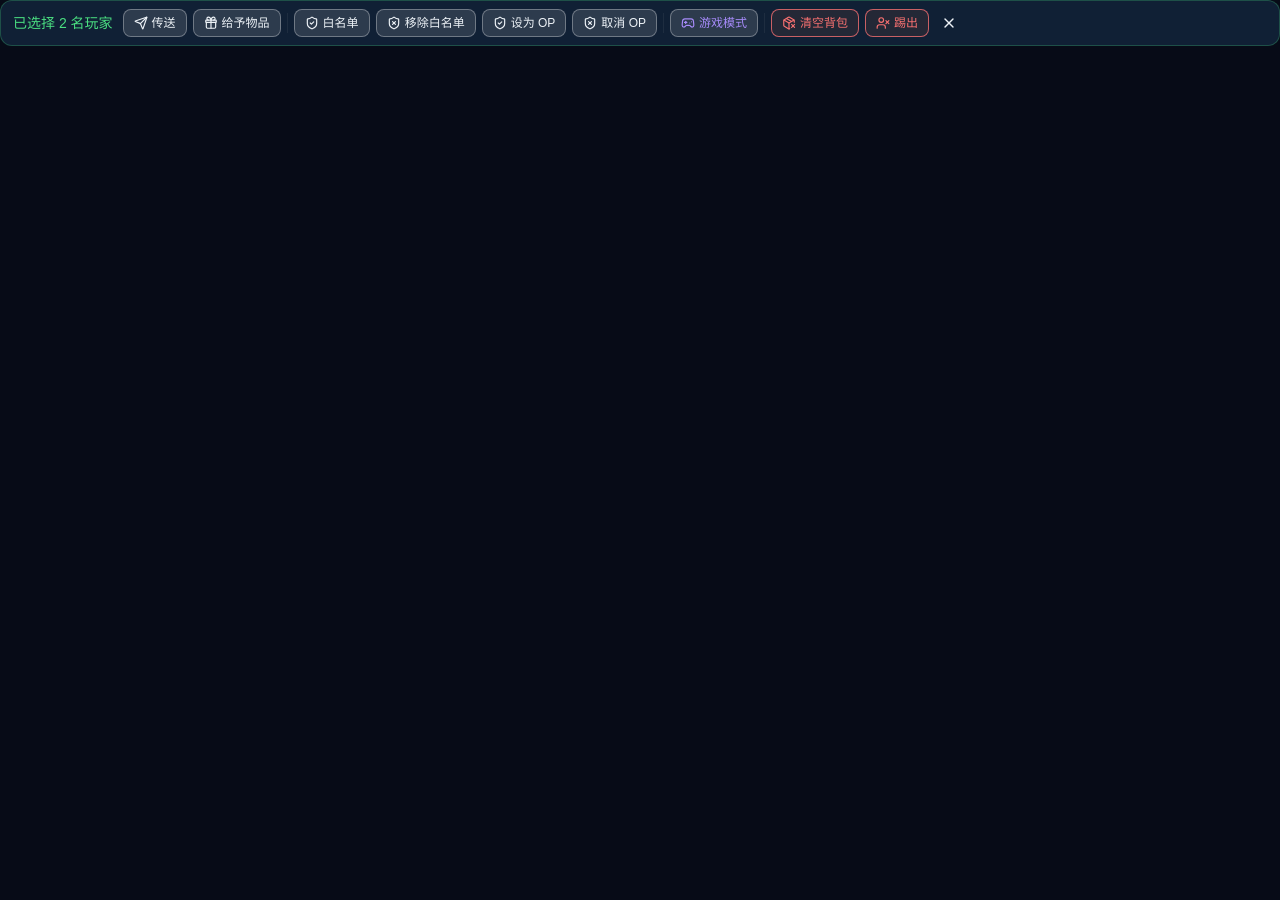
Test: BatchBar › 踢出：直执（无逆操作 → 回执不挂撤销），离线玩家跳过
Click the button "踢出": (897, 23) x1=865 y1=9 x2=929 y2=37
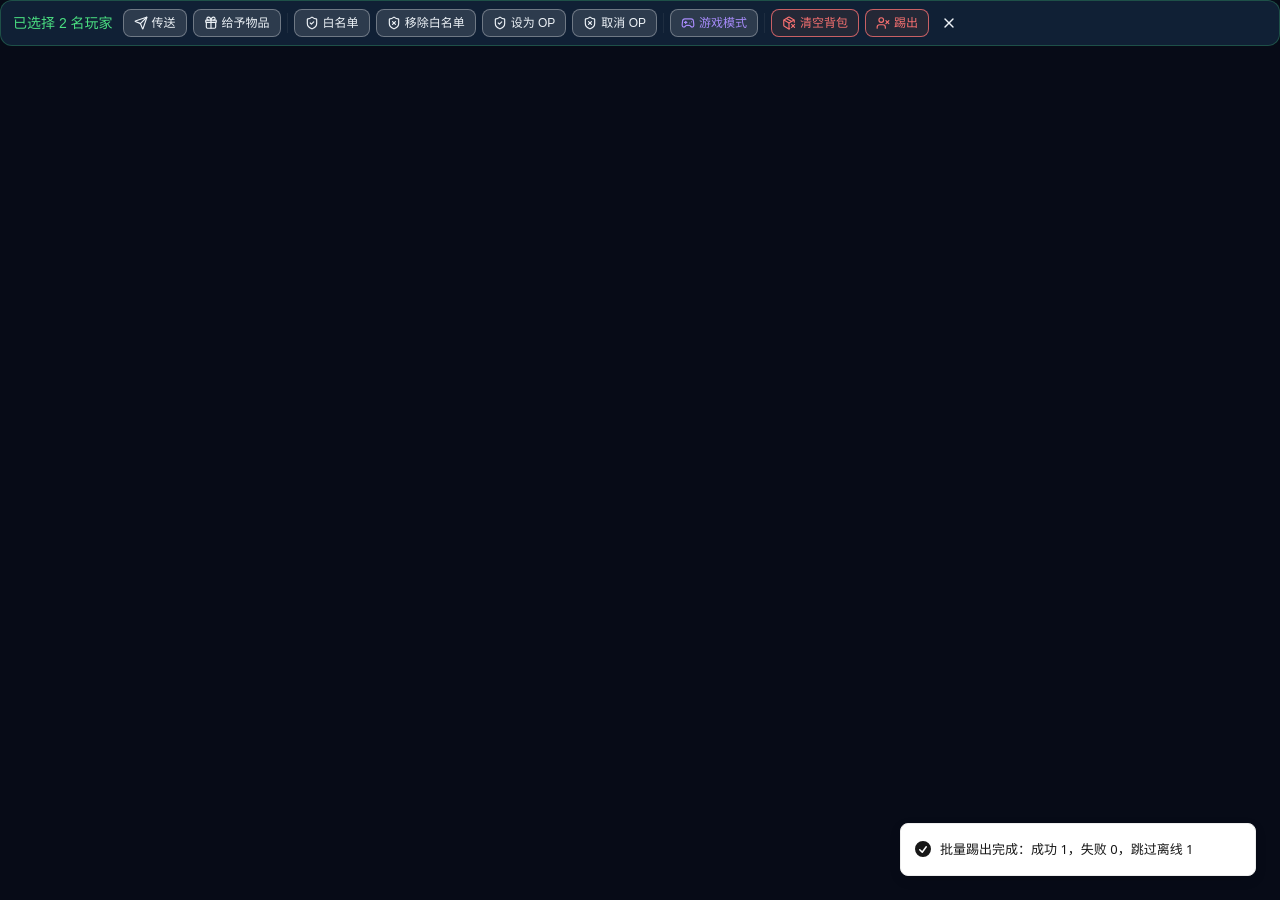
Result: the text "批量踢出完成：成功 1，失败 0，跳过离线 1" is shown at x1=940 y1=840 x2=1194 y2=859
